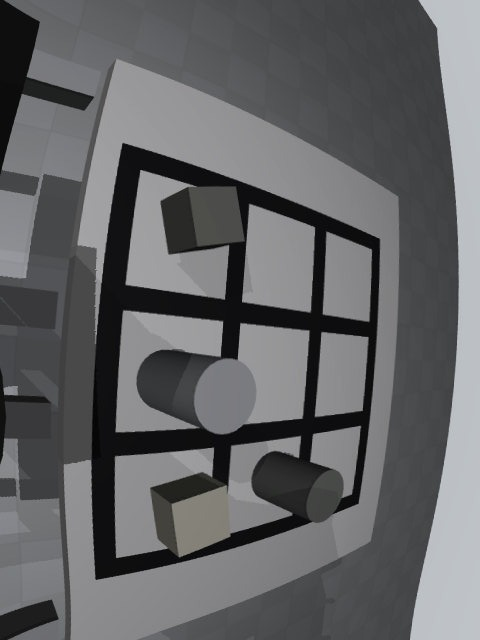can: (137, 350, 257, 434)
cube: (160, 186, 245, 255)
cylinder: (251, 451, 344, 523)
foam: (150, 472, 230, 557)
